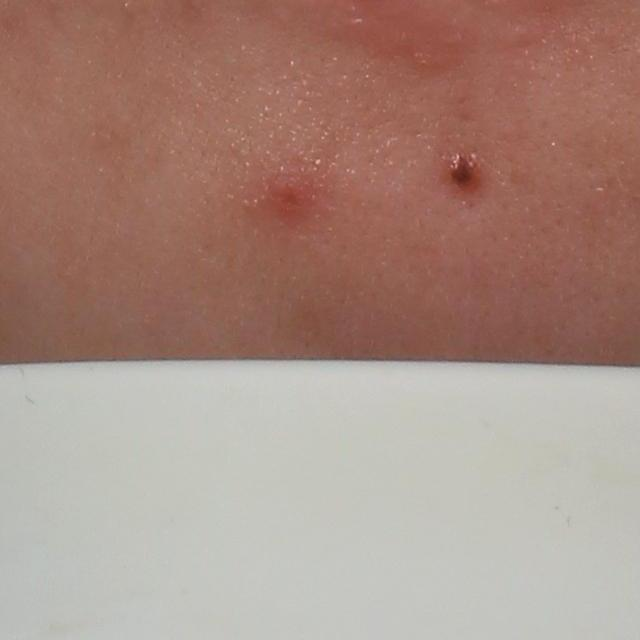nevus: (447, 154, 479, 186)
papule: (264, 163, 312, 221)
